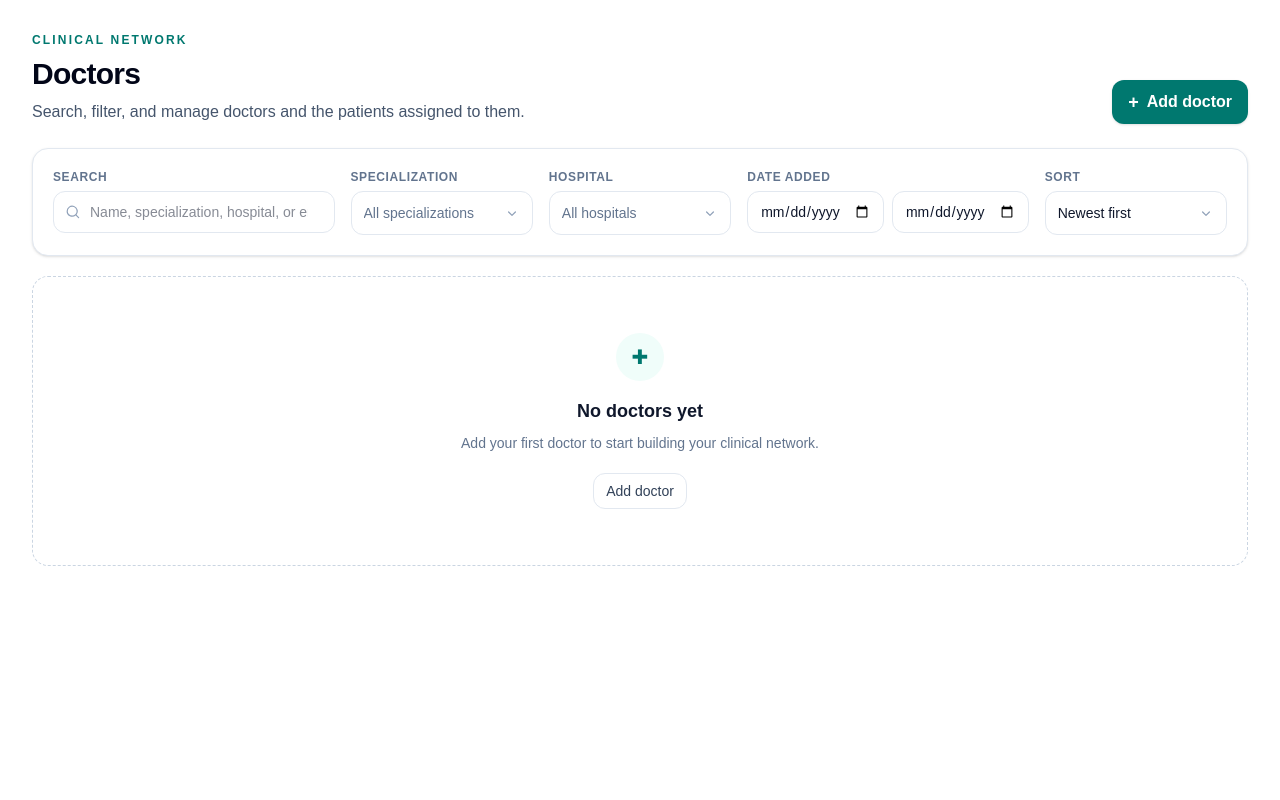
Scenario: DoctorsManager list › shows distinct empty states for no data and no matches
Check: the heading "No doctors yet" is shown, box [577, 401, 703, 421]
Click the button with aria-label "Filter specialization:". click: (442, 213)
box: [350, 191, 533, 235]
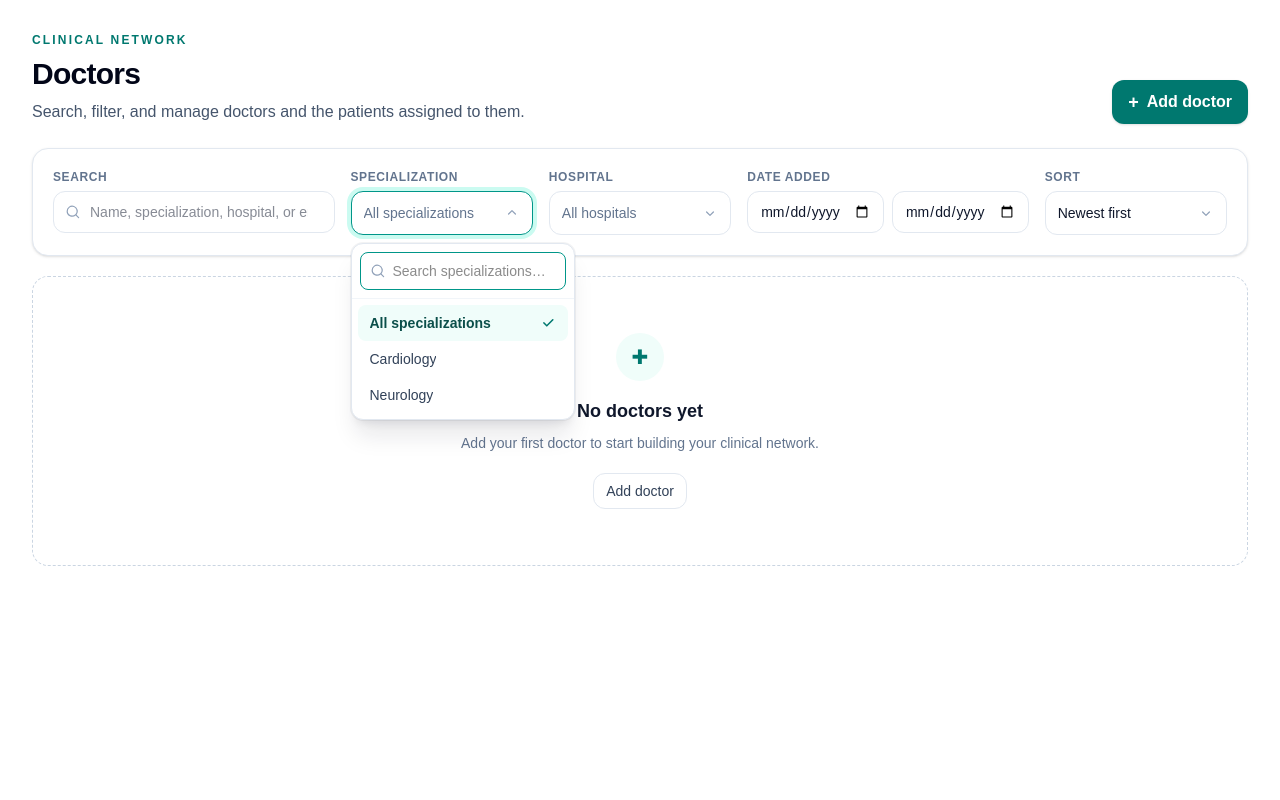
Check: the option "Cardiology" is shown
Click the option "Cardiology". click: (403, 359)
box: [370, 351, 436, 367]
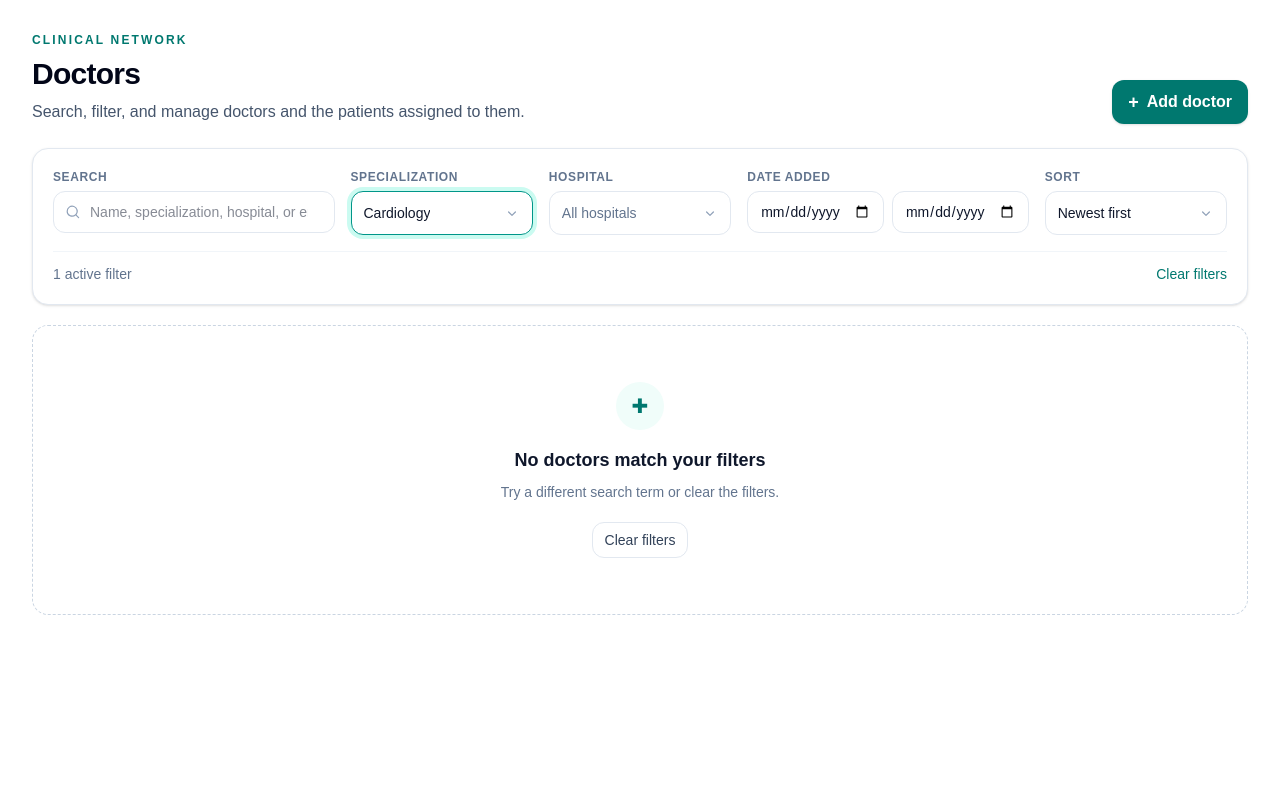
Check: the heading "No doctors match your filters" is shown, box [514, 450, 766, 470]
Click the button "Clear filters" in the row of "active filter". click: (1192, 274)
box: [1156, 264, 1227, 284]
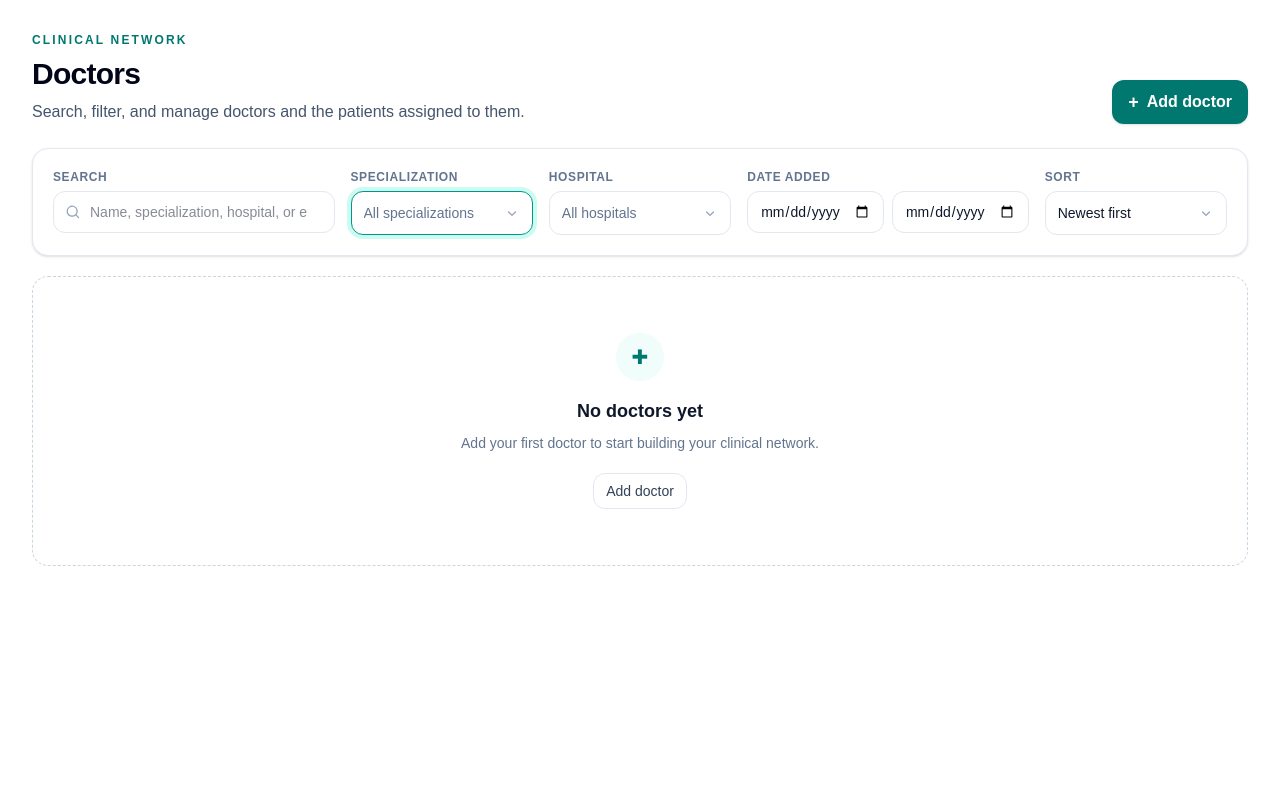
Check: the heading "No doctors yet" is shown, box [577, 401, 703, 421]
